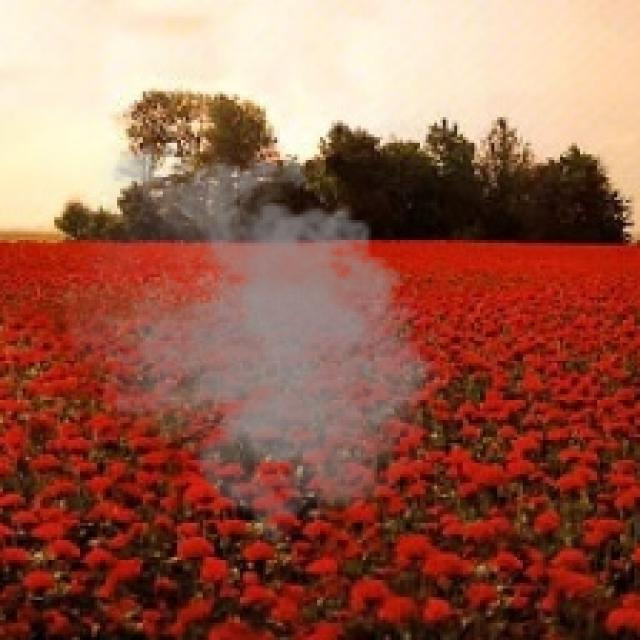smoke: (43, 131, 457, 546)
